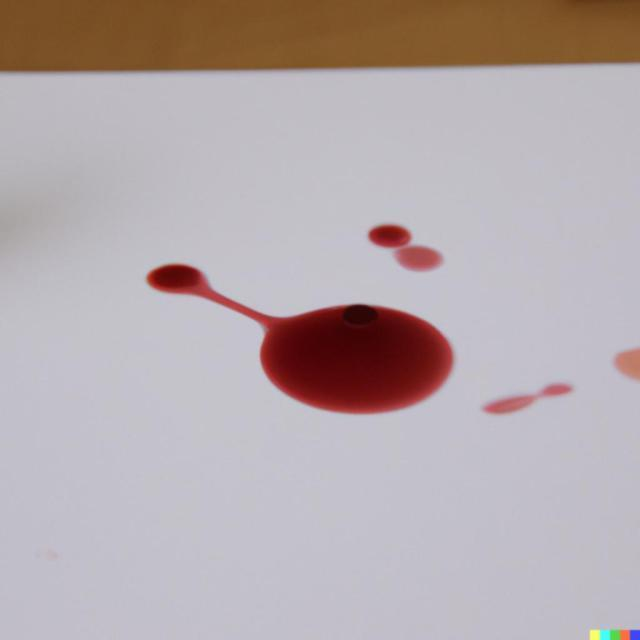flood: (142, 218, 474, 422)
